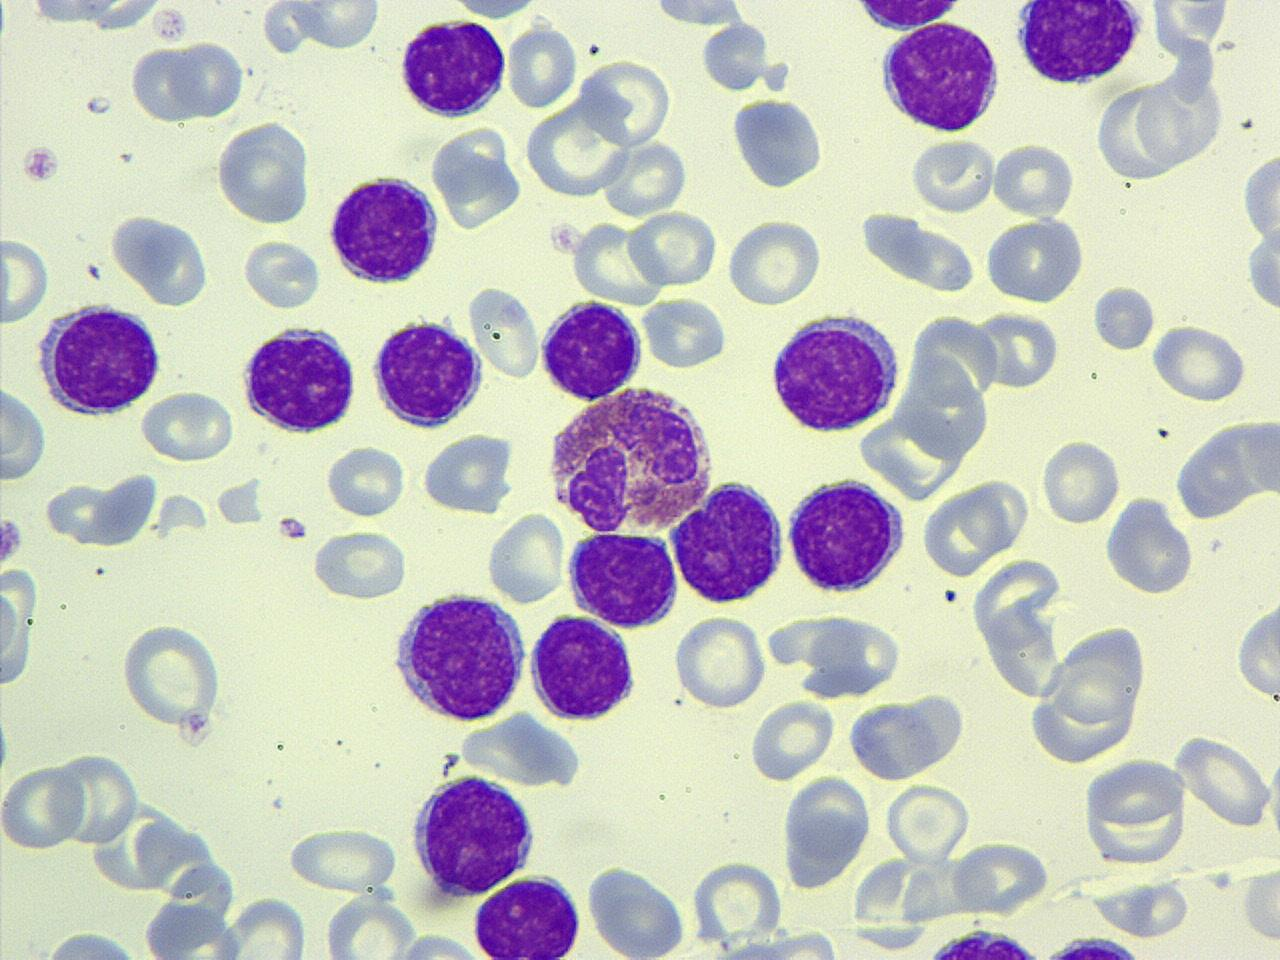Platelets: (698, 20, 772, 89), (1089, 281, 1157, 353), (1243, 229, 1280, 315), (19, 140, 62, 183), (0, 514, 23, 568), (0, 712, 15, 779), (276, 514, 308, 542), (942, 588, 958, 604)
RBC: (120, 618, 224, 734), (212, 118, 314, 227), (780, 773, 872, 890), (583, 860, 690, 959), (432, 124, 528, 232), (1171, 731, 1277, 828), (110, 211, 214, 309), (456, 712, 586, 788), (671, 610, 769, 710), (1103, 492, 1195, 598), (980, 215, 1087, 306), (1133, 67, 1225, 170), (723, 216, 825, 307), (970, 554, 1062, 650), (417, 430, 519, 516), (844, 698, 948, 782), (578, 58, 674, 149), (57, 748, 141, 848), (284, 825, 400, 895), (1082, 752, 1186, 830), (882, 778, 972, 868), (1149, 321, 1247, 403), (485, 507, 567, 605), (692, 856, 784, 942), (920, 486, 1006, 578), (626, 206, 720, 290), (1039, 435, 1123, 528), (468, 282, 545, 382), (309, 526, 410, 602), (0, 761, 85, 851), (139, 386, 237, 464), (950, 838, 1050, 913), (749, 698, 834, 783), (909, 133, 997, 215), (600, 136, 689, 217), (977, 306, 1060, 392), (992, 138, 1077, 219), (640, 292, 728, 370), (322, 889, 416, 960), (506, 21, 579, 111), (323, 442, 406, 518), (214, 894, 309, 960), (240, 235, 321, 311), (170, 37, 244, 119), (129, 43, 201, 124), (1241, 134, 1280, 276), (1, 562, 43, 693), (698, 18, 770, 94), (1234, 588, 1280, 702), (1148, 0, 1236, 57), (1, 377, 48, 483), (1091, 281, 1159, 354), (288, 1, 382, 53), (0, 233, 52, 324), (1239, 860, 1280, 946), (259, 0, 318, 56), (0, 377, 24, 470), (446, 0, 547, 22)
WBC: (524, 0, 1086, 235), (544, 381, 720, 536), (387, 586, 530, 724), (765, 307, 906, 437), (406, 770, 540, 902), (35, 298, 168, 419), (667, 476, 788, 608), (784, 473, 910, 596), (876, 15, 1004, 134), (241, 317, 362, 437), (368, 314, 488, 431), (326, 170, 443, 286), (526, 610, 641, 724), (1169, 409, 1280, 523), (395, 14, 512, 122), (563, 528, 683, 632), (1011, 1, 1147, 88), (539, 296, 646, 404), (212, 117, 316, 227), (134, 870, 258, 960), (469, 870, 588, 960), (780, 770, 872, 886), (585, 860, 690, 958), (112, 210, 216, 308), (845, 694, 956, 784), (730, 92, 831, 190), (0, 0, 187, 32), (1234, 589, 1280, 703), (1240, 140, 1280, 267), (21, 924, 160, 958), (915, 926, 1056, 959), (836, 0, 972, 32)
